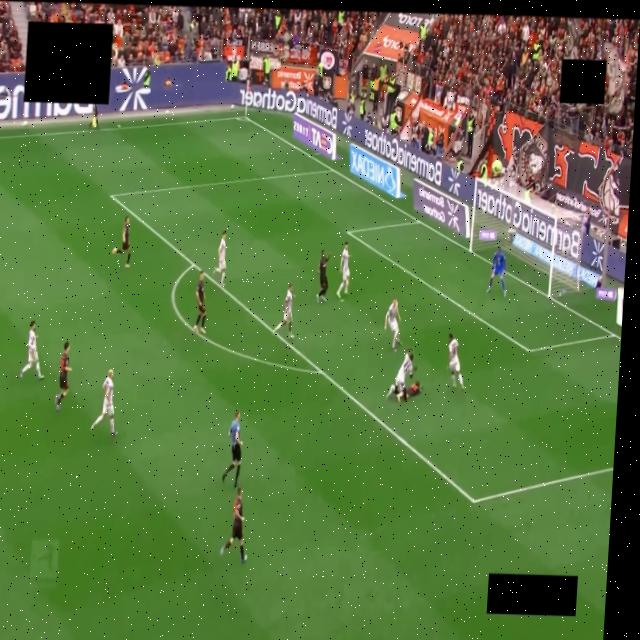player: (220, 488, 246, 562), (90, 370, 116, 436), (386, 349, 413, 400), (20, 321, 43, 380), (272, 285, 293, 339), (54, 342, 70, 409), (111, 217, 129, 267), (487, 247, 505, 296), (384, 299, 400, 352), (448, 334, 463, 389), (193, 271, 205, 334), (386, 381, 421, 402), (316, 250, 330, 302), (336, 243, 349, 298), (213, 231, 226, 286), (398, 381, 421, 401)
referee: (222, 411, 241, 487)
